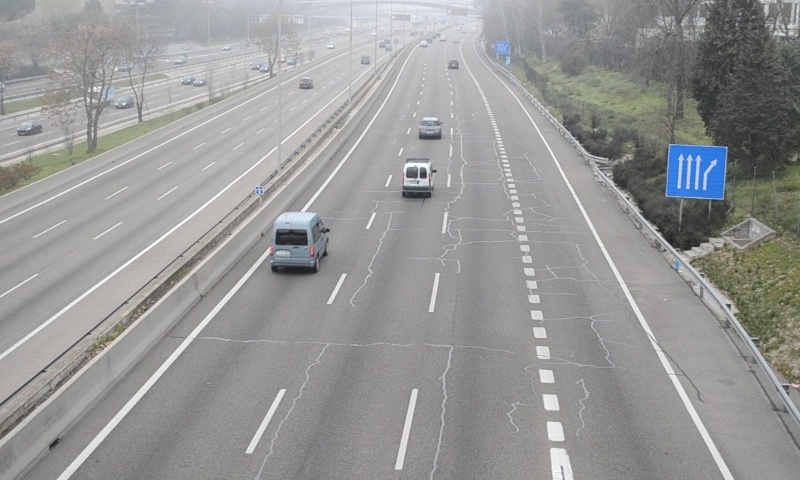car: (418, 117, 443, 140)
van: (270, 212, 326, 268), (401, 160, 432, 196)
